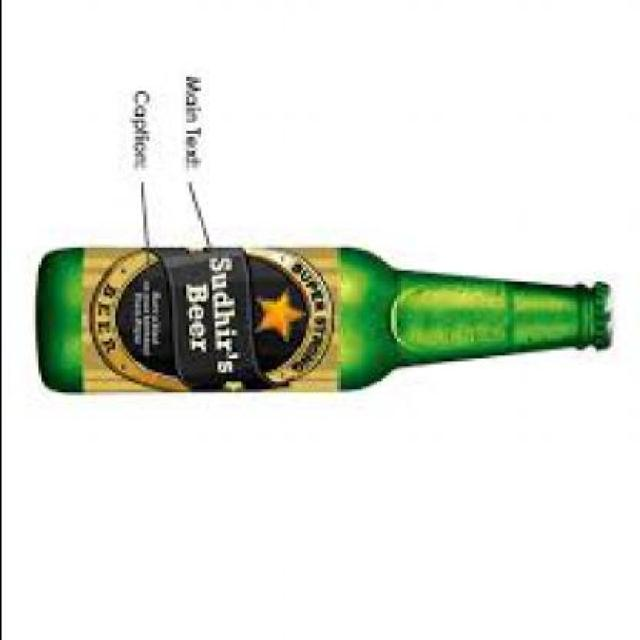GLASS: (37, 245, 600, 392)
METAL: (592, 282, 617, 342)
